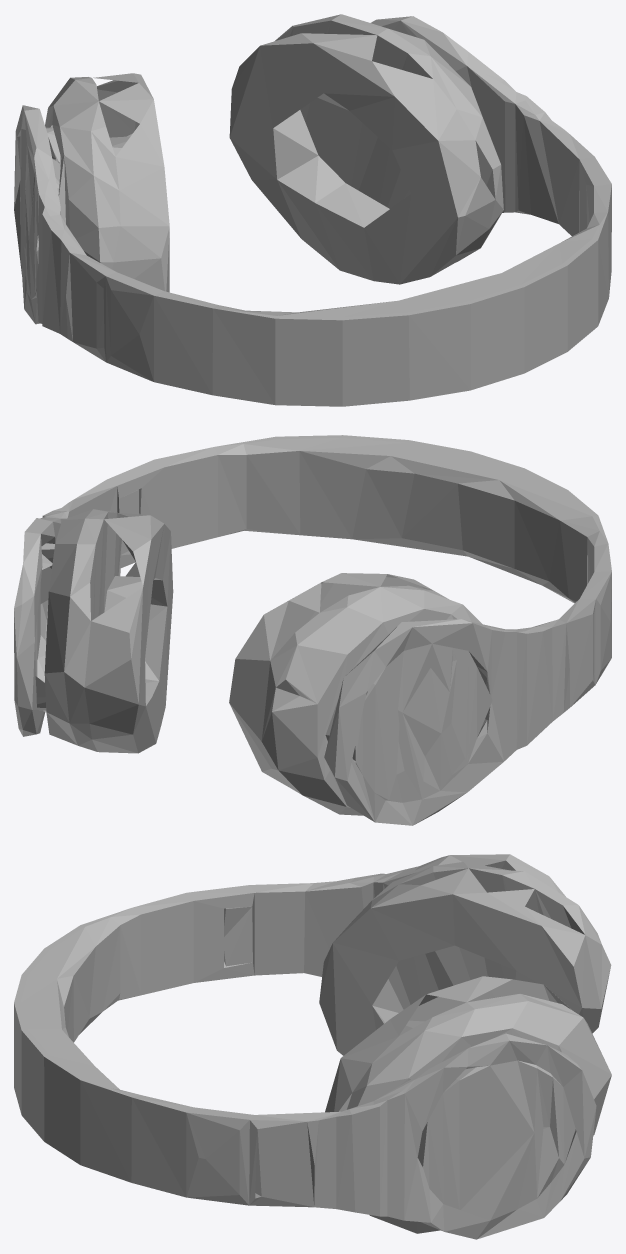
File: model_align.obj
3 renders of one model, top to bottom at view 1: azimuth 30°, elevation 25°; view 2: azimuth 150°, elevation 25°; view 3: azimuth 270°, elevation 25°, orthographic.
Size of the model in its own units: 0.1565 by 0.0663 by 0.1635.
Materials: 11 (11 with a texture image).
